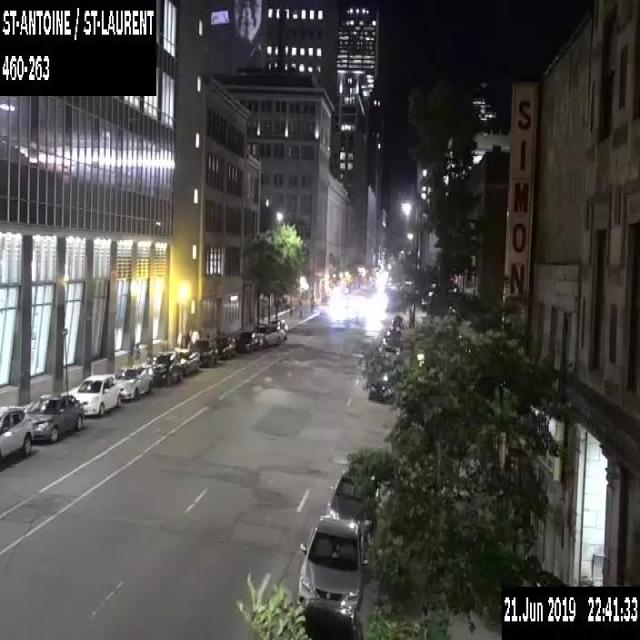vehicle: (296, 513, 368, 611), (326, 464, 382, 534), (294, 596, 364, 638), (25, 392, 83, 442), (73, 373, 120, 415), (0, 404, 33, 457), (114, 362, 153, 400), (148, 349, 182, 383), (367, 371, 393, 403), (251, 322, 284, 345), (173, 347, 199, 376), (193, 337, 218, 365), (212, 334, 238, 359), (235, 330, 258, 351), (383, 326, 402, 350), (380, 342, 399, 358), (270, 317, 288, 332), (391, 313, 404, 328)
